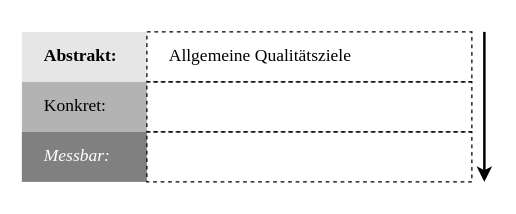
The diagram is 516 pixels wide and 214 high, and some of its shapes have lost their labels. The centre of each missing label's shape, as x and y in pixels:
Indikatoren und Metriken: pixel 309 156
Konkretisiert für die eigene Situation: pixel 309 106
